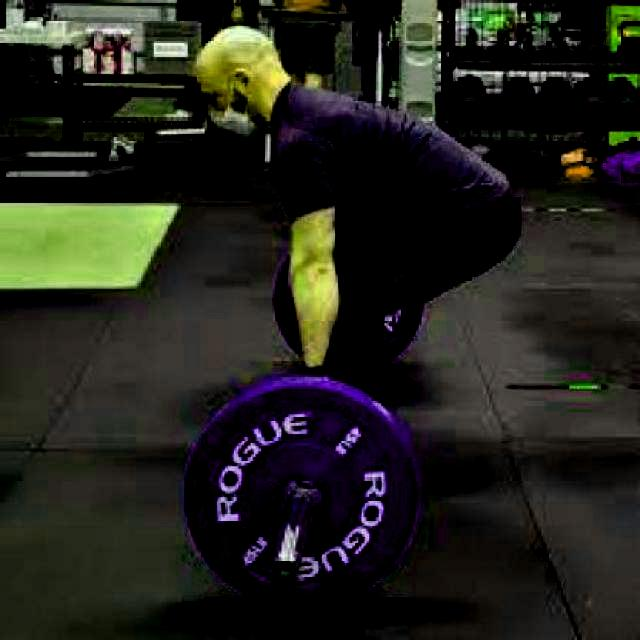barbell: (177, 365, 422, 617)
